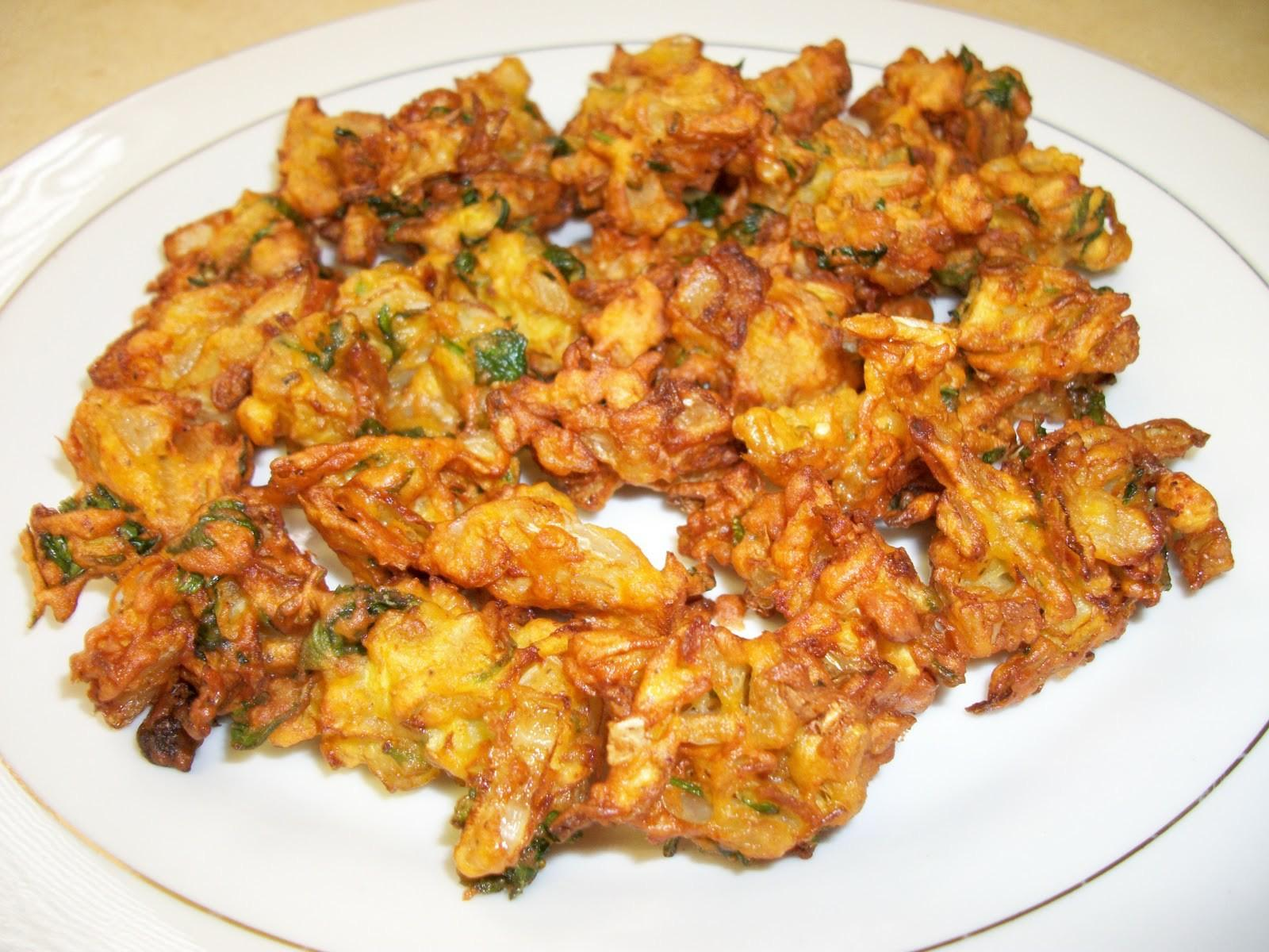OnionPakoda: (26, 33, 1237, 898)
